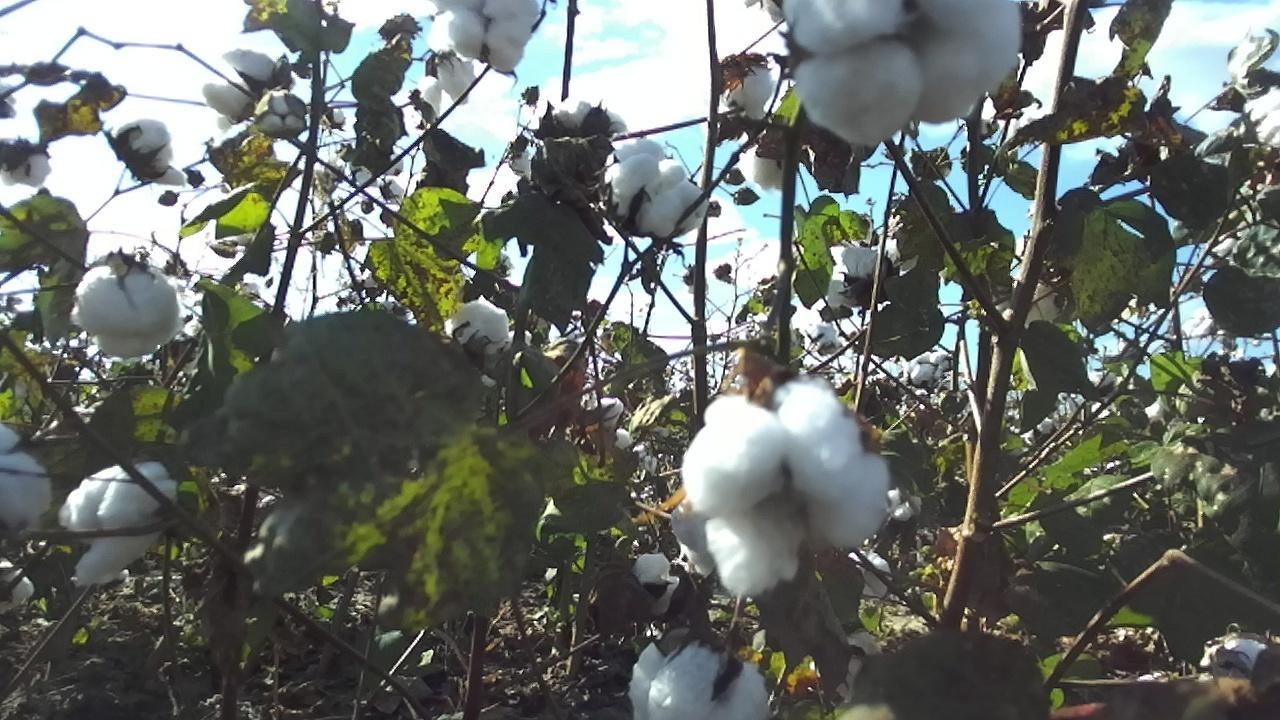cotton_ready: (685, 377, 892, 601), (788, 0, 1025, 145), (59, 457, 180, 590), (629, 632, 772, 720), (604, 137, 709, 244), (69, 262, 180, 361), (431, 0, 541, 70), (0, 420, 57, 523), (203, 47, 280, 122), (119, 118, 190, 185), (533, 92, 630, 141), (826, 245, 887, 310), (422, 49, 477, 119), (720, 54, 775, 123), (632, 550, 682, 622), (1199, 634, 1266, 686), (452, 299, 511, 354), (738, 131, 792, 190), (257, 93, 305, 132)
